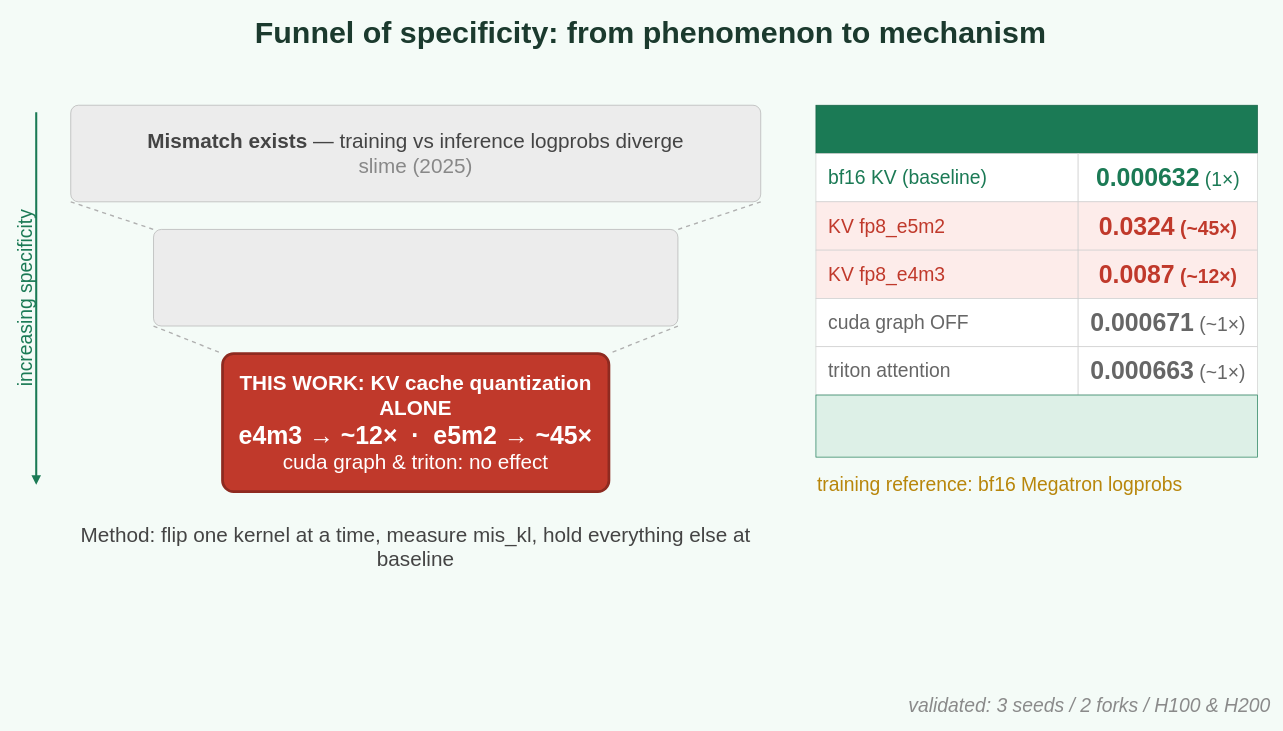
The diagram is 1283 pixels wide and 731 high, and some of its shapes have lost their labels. Each missing label, with the box of its shape:
Configuration | mis_kl (× base): (815, 105, 1258, 154)
Mismatch is bounded O(T²) Beyond Precision (2026): (153, 229, 678, 326)
⇒ only KV dtype matters — monotone in mantissa bits: (815, 394, 1258, 457)
